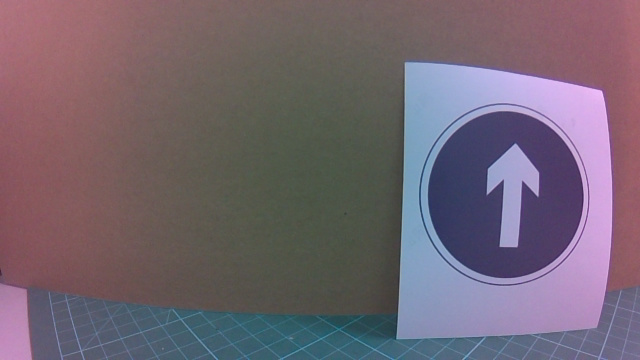forward: (416, 88, 611, 294)
